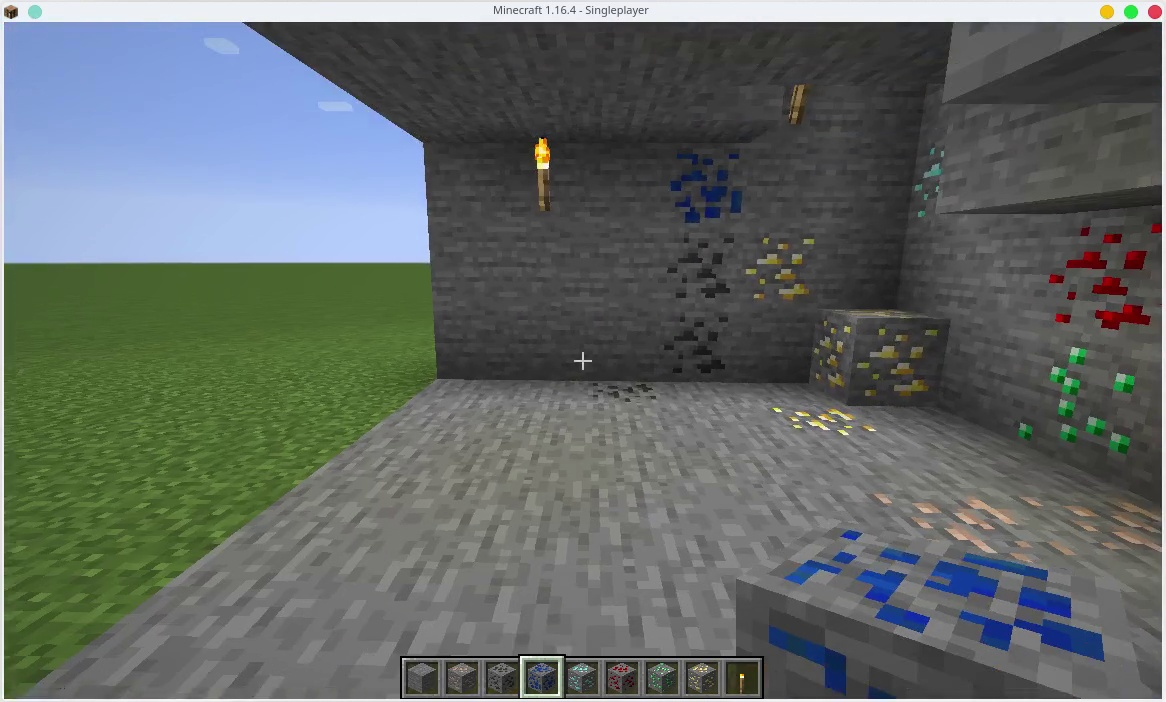gold: (803, 304, 942, 399), (740, 231, 812, 301), (786, 399, 878, 444), (687, 661, 716, 692)
